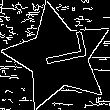L_W: (30, 37, 87, 77)
